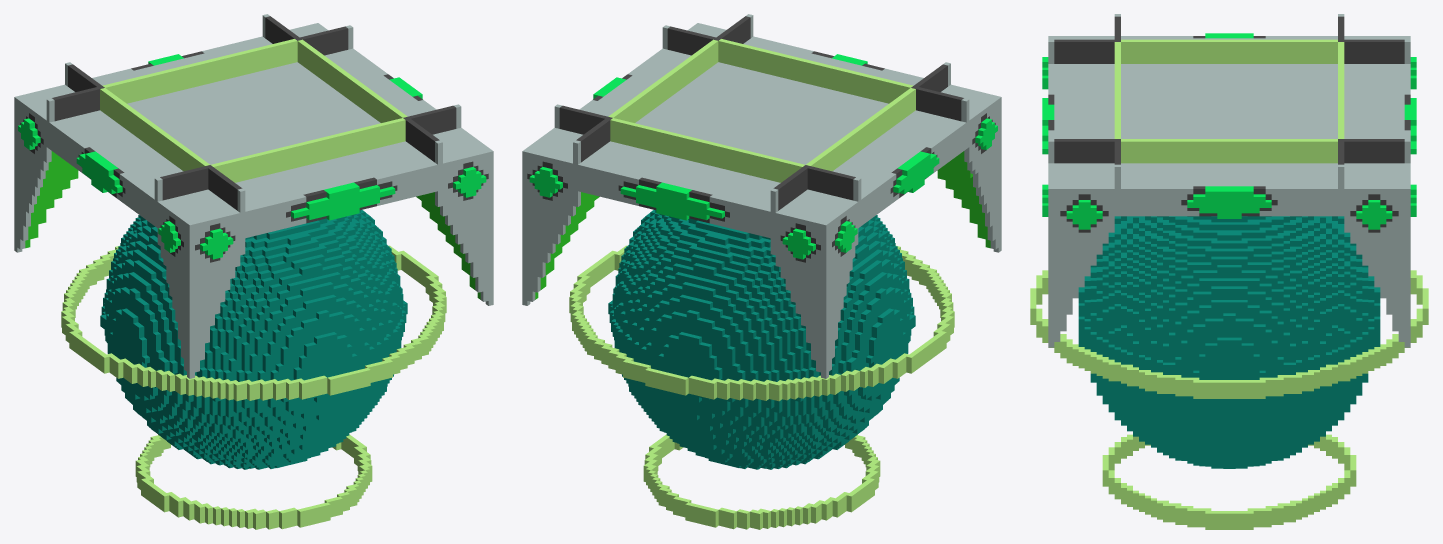
The model's file is StageHover2.fbx.
The picture shows the model from 3 angles, left to right: view 1: azimuth 30°, elevation 25°; view 2: azimuth 150°, elevation 25°; view 3: azimuth 270°, elevation 25°; orthographic projection. The views are drawn at different scales.
Parts seen in each view (by area): view 1: Stage_Hover_2_00:Mesh; view 2: Stage_Hover_2_00:Mesh; view 3: Stage_Hover_2_00:Mesh.
Part boxes in pixels (x1,y1,x2,y2): Stage_Hover_2_00:Mesh: [14, 14, 493, 529]; Stage_Hover_2_00:Mesh: [522, 14, 1001, 529]; Stage_Hover_2_00:Mesh: [1030, 14, 1428, 529].
Size of the model in its own units: 66 by 71 by 66.
1 material, 1 textured.
